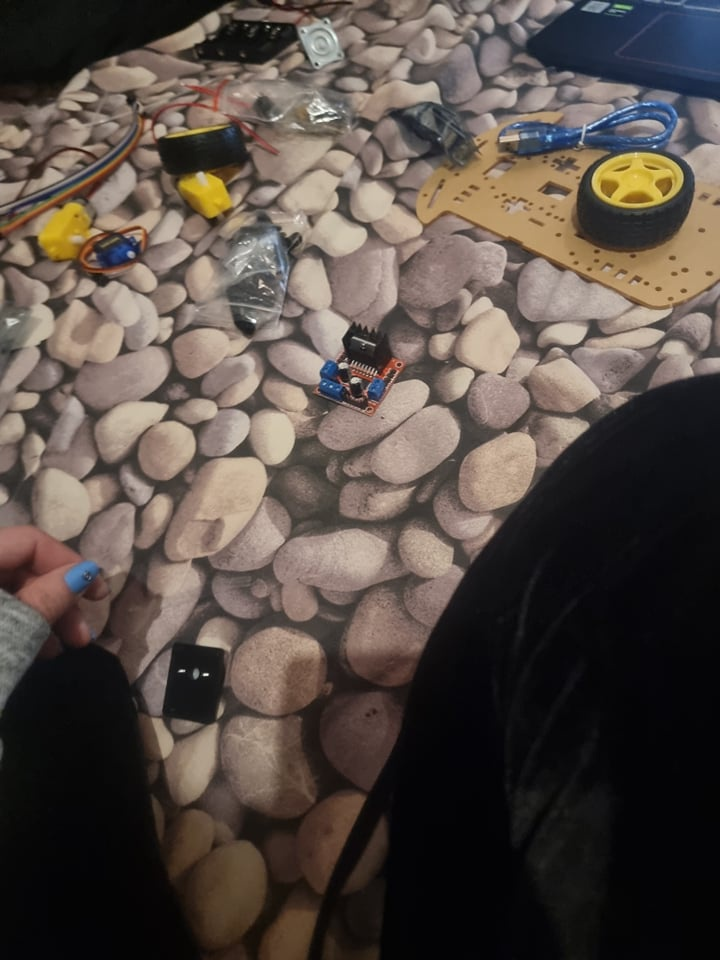BATTERY BOX: (188, 13, 297, 68)
MOTOR: (312, 325, 406, 418)
